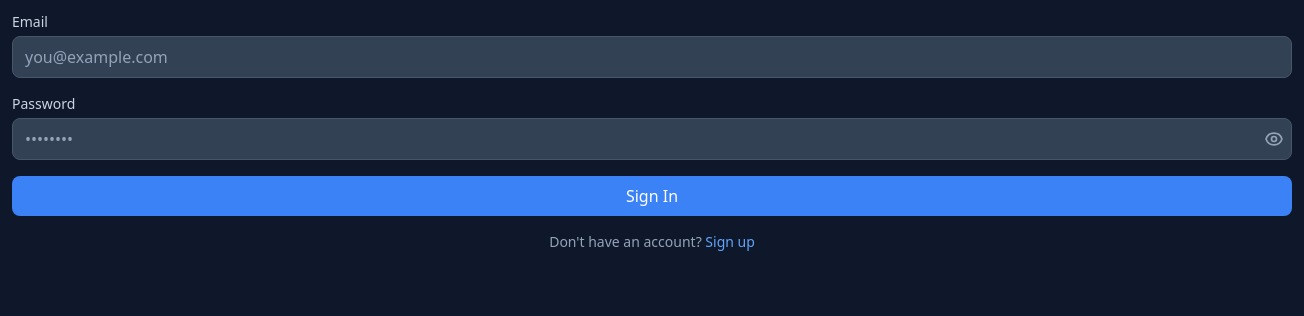
LoginForm › zeigt Validierungsfehler bei leerem Formular
Click the button "Sign In": x=652, y=196 [12, 176, 1292, 216]
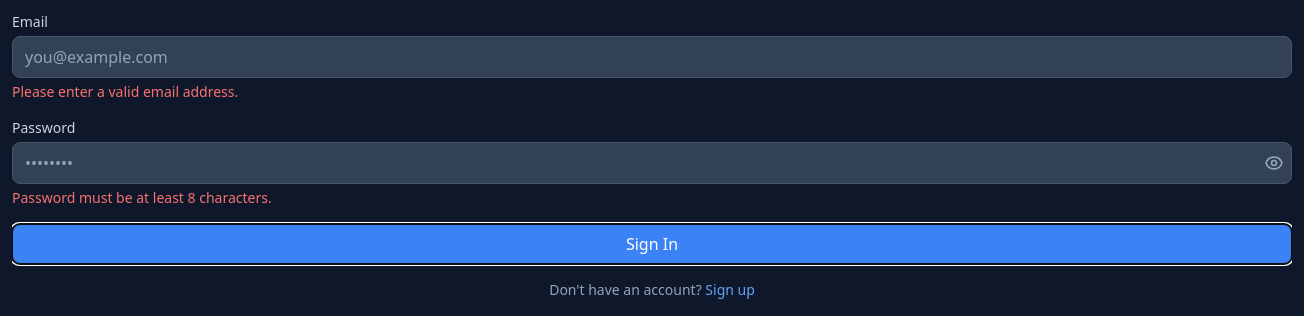
expect the text "Please enter a valid email address." is shown: met, box [12, 82, 238, 101]
expect the text "Password must be at least 8 characters." is shown: met, box [12, 188, 272, 207]
